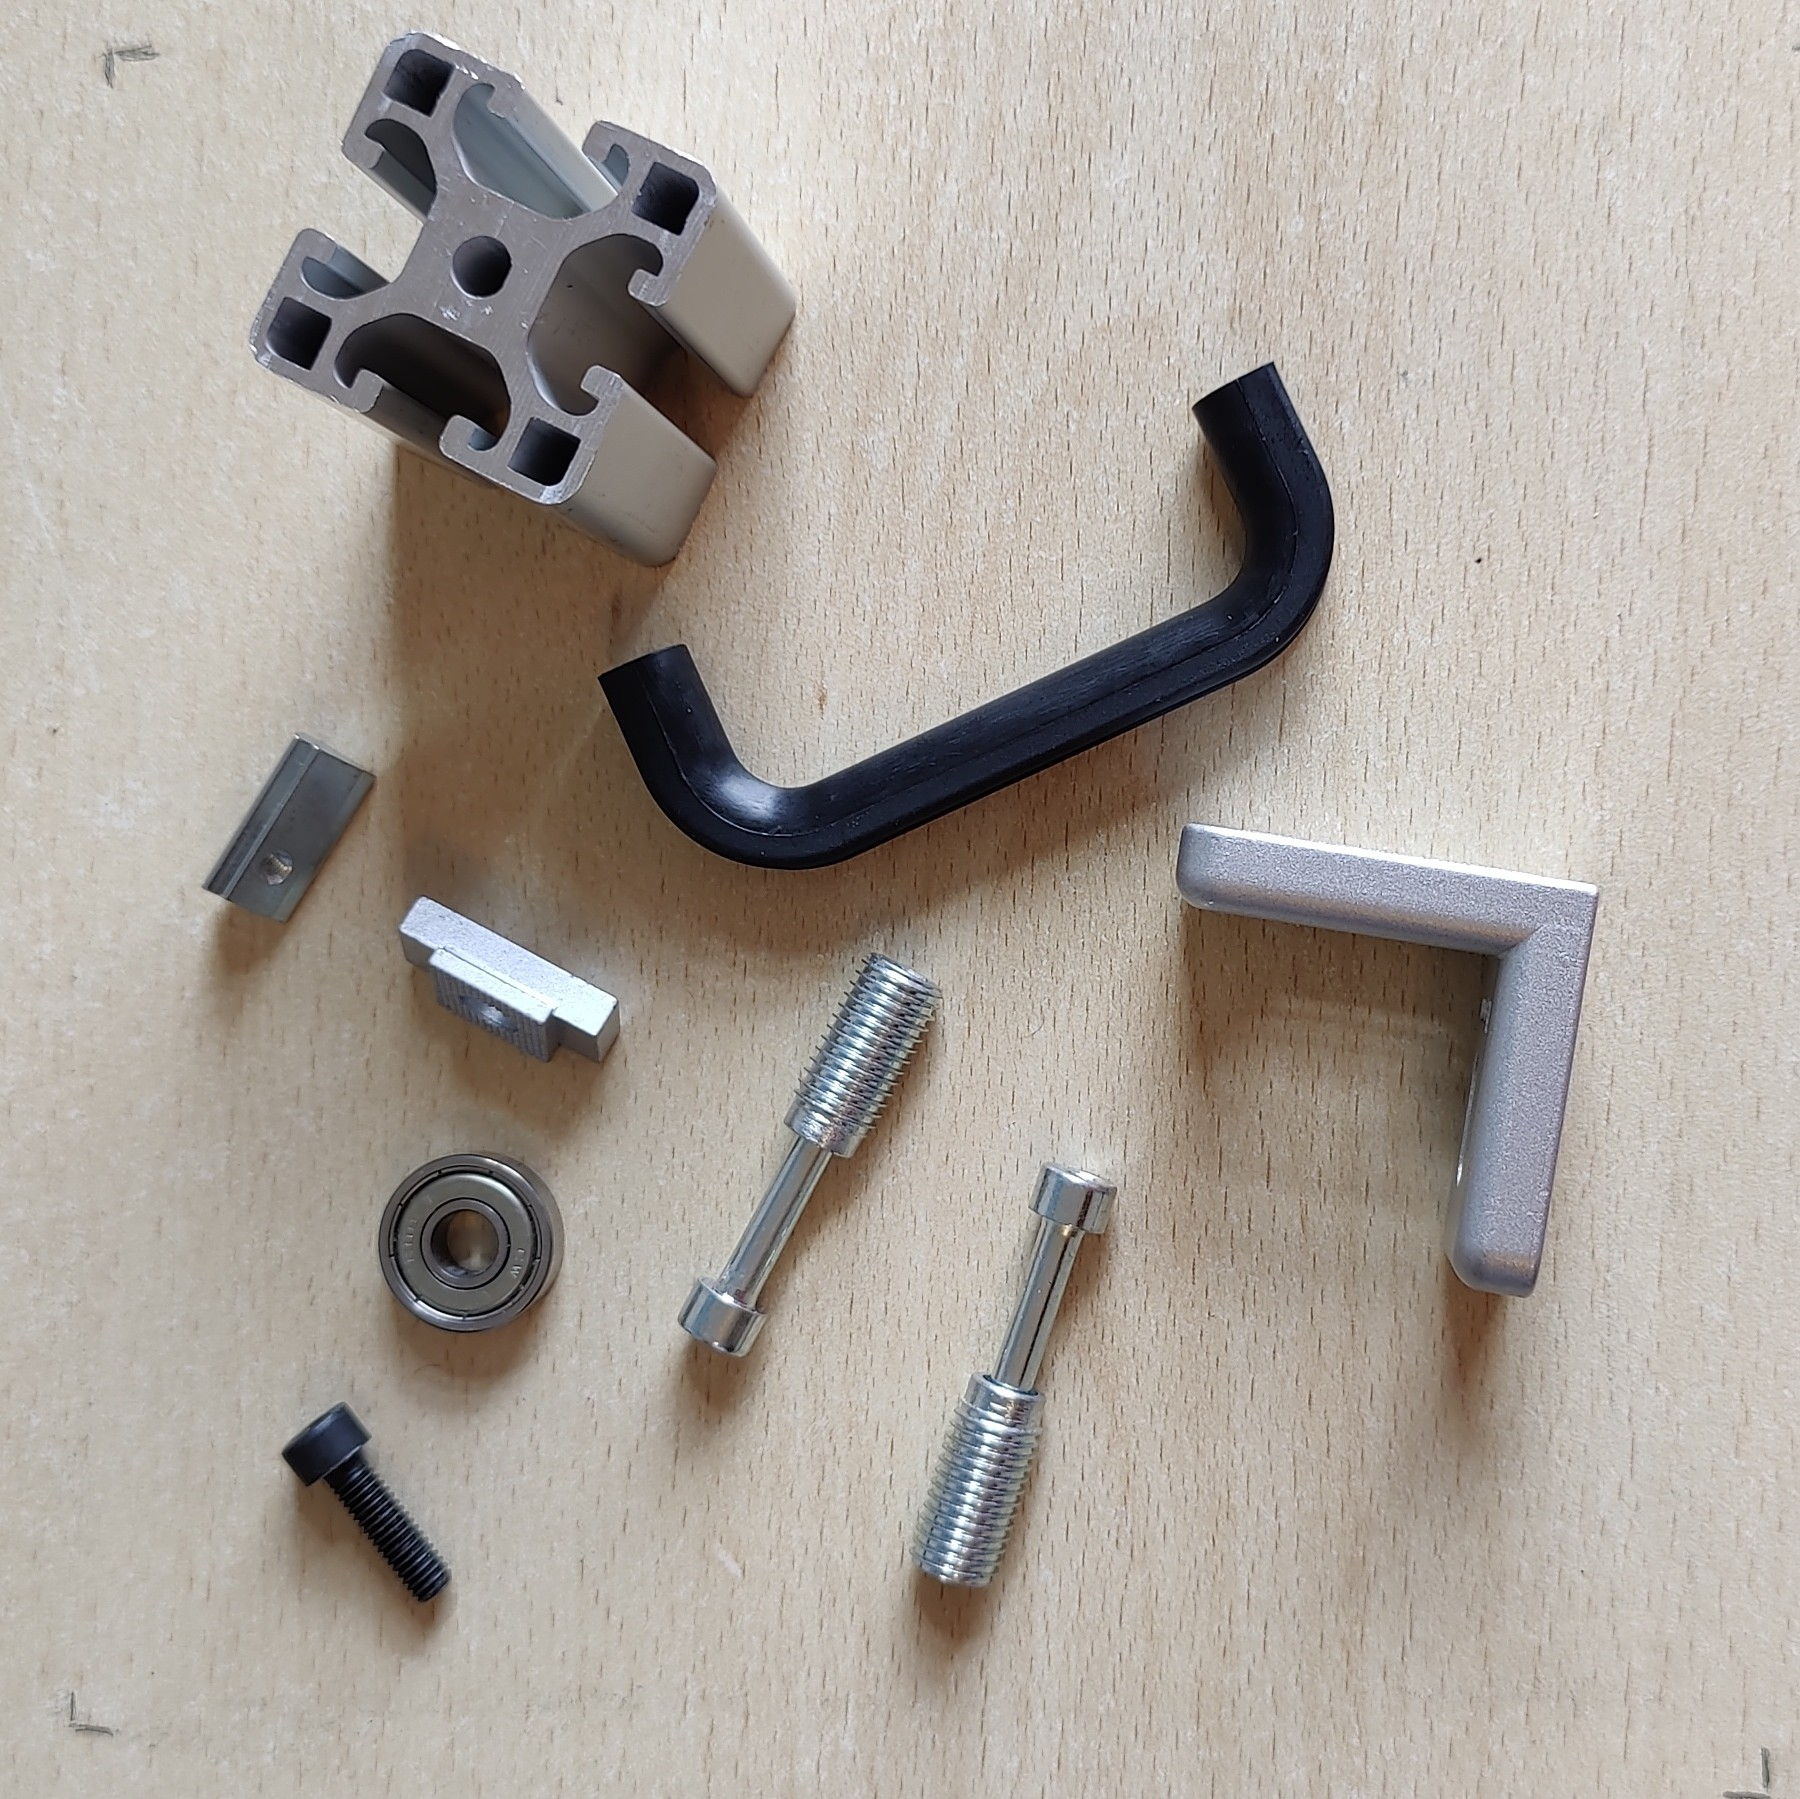Aluminium Extension: (245, 31, 799, 568)
Ball Bearing: (374, 1148, 567, 1334)
Multiwinkel: (1173, 815, 1601, 1301)
Pull Handle: (596, 357, 1336, 873)
Shoulder Socket Head Cap Screw: (675, 947, 945, 1361), (907, 1158, 1118, 1595)
Socket Head Cap Screw: (278, 1400, 455, 1605)
T Nut Square: (395, 891, 624, 1071)
T Spring Nut: (198, 733, 379, 929)
